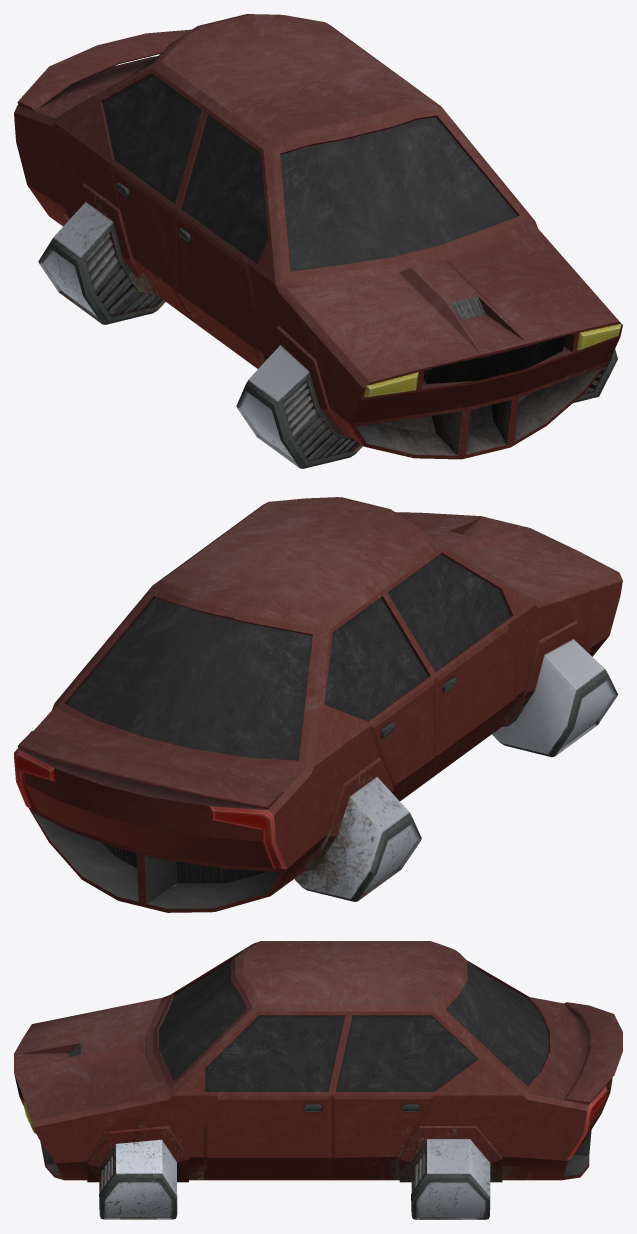
File: kart10.glb
The picture shows the model from 3 angles, top to bottom: view 1: azimuth 30°, elevation 25°; view 2: azimuth 150°, elevation 25°; view 3: azimuth 270°, elevation 25°; orthographic projection. The views are drawn at different scales.
Visible parts, largest first — view 1: Object_2; view 2: Object_2; view 3: Object_2.
Part boxes in pixels (x1=…): Object_2: x1=14, y1=14, x2=622, y2=468; Object_2: x1=14, y1=497, x2=622, y2=912; Object_2: x1=14, y1=941, x2=622, y2=1219.
Size of the model in its own units: 2.56 by 1.81 by 5.05.
Materials: 1 (1 with a texture image).
